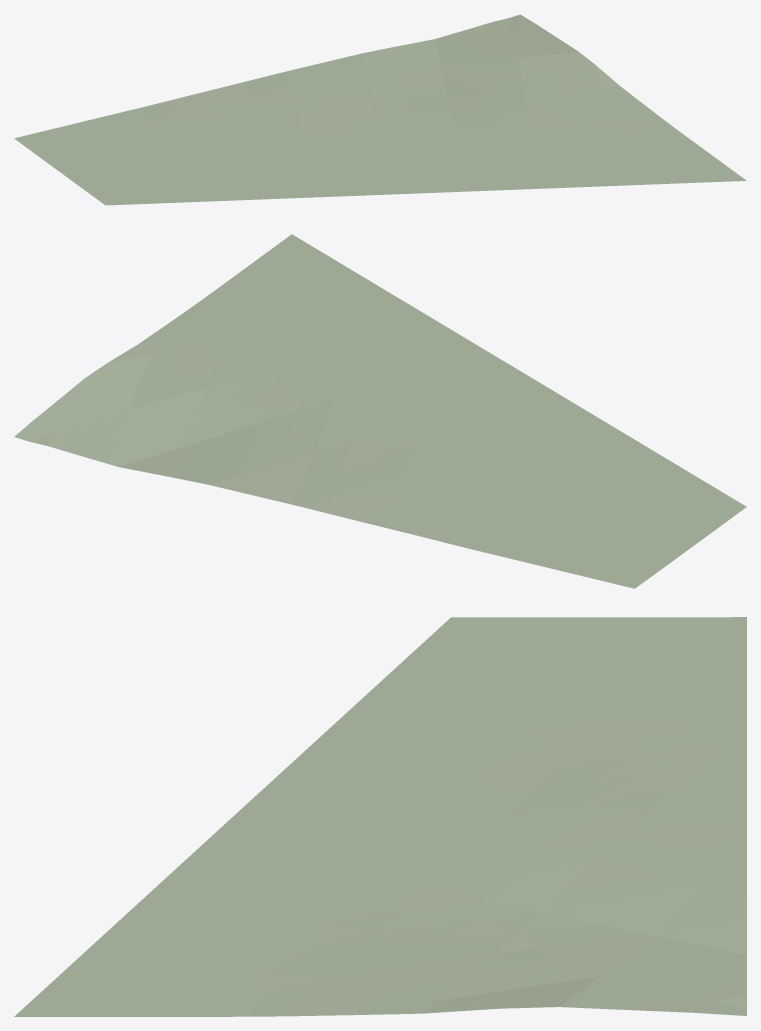
File: SM_MPRR_Terrain_-1_-4.fbx
3 views of the same model, one above another, from view 1: azimuth 30°, elevation 25°; view 2: azimuth 150°, elevation 25°; view 3: azimuth 270°, elevation 25° (orthographic). The views are drawn at different scales.
Parts seen in each view (by area): view 1: SM_MPRR_Terrain_-1_-4; view 2: SM_MPRR_Terrain_-1_-4; view 3: SM_MPRR_Terrain_-1_-4.
Part boxes in pixels (x1,y1,x2,y2): SM_MPRR_Terrain_-1_-4: [14, 14, 746, 205]; SM_MPRR_Terrain_-1_-4: [14, 234, 746, 588]; SM_MPRR_Terrain_-1_-4: [14, 617, 746, 1016].
Bounding box in the file's own units: 15000 × 11631 × 265.
